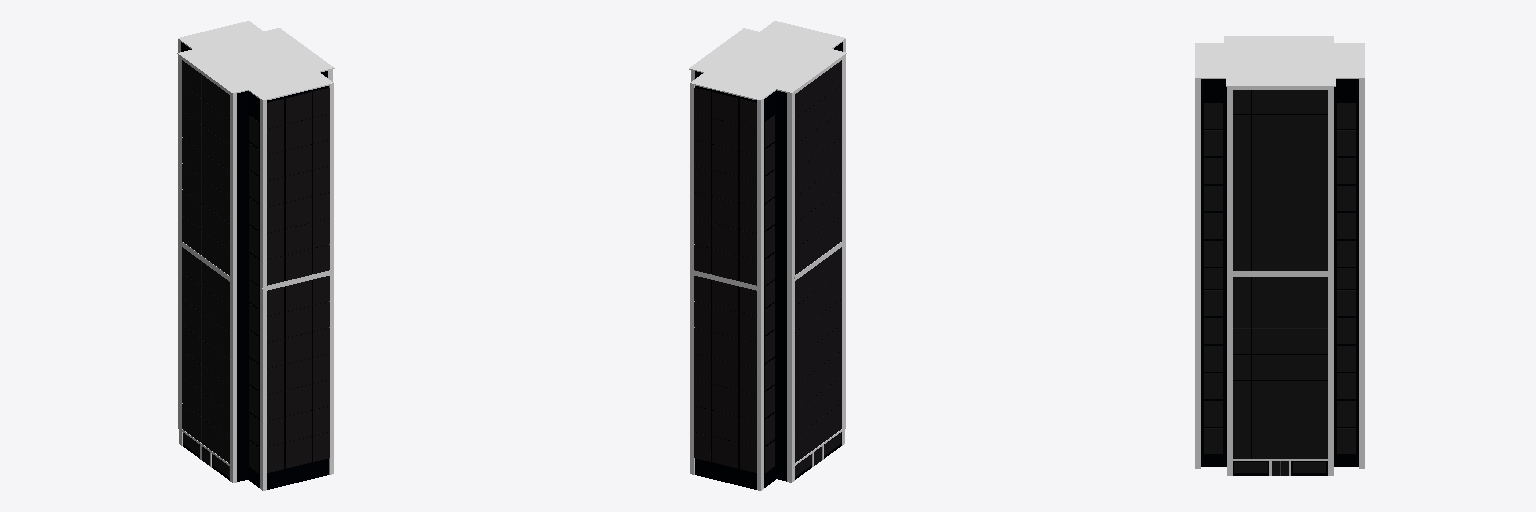
Rendered from Building2.obj.
3 renders of one model, left to right at view 1: azimuth 30°, elevation 25°; view 2: azimuth 150°, elevation 25°; view 3: azimuth 270°, elevation 25°, orthographic.
Visible parts, largest first — view 1: Part47, Part21, Part17, Part45, Union1, Union6, Union19, Union69, Union5, Union32, Union59, Union10 (+28 smaller); view 2: Part47, Part17, Part45, Part21, Part44, Part42, Union36, Union33, Union16, Union37, Union57, Union24 (+28 smaller); view 3: Part47, Part44, Part17, Union4, Union7, Union9, Union15, Union26, Union31, Union38, Union45, Union47 (+25 smaller).
Boxes of the visible parts, <box> form: Part47: <box>178,21,333,100</box>; Part21: <box>183,277,247,481</box>; Part17: <box>248,278,328,489</box>; Part45: <box>184,86,247,279</box>; Union1: <box>267,432,329,472</box>; Union6: <box>267,354,329,394</box>; Union19: <box>267,302,329,342</box>; Union69: <box>267,88,329,128</box>; Union5: <box>267,380,329,420</box>; Union32: <box>267,218,329,258</box>; Union59: <box>267,166,329,206</box>; Union10: <box>267,328,329,368</box>; Part47: <box>690,21,845,100</box>; Part17: <box>695,277,776,489</box>; Part45: <box>777,86,841,293</box>; Part21: <box>777,278,841,481</box>; Part44: <box>695,42,842,297</box>; Part42: <box>787,92,794,294</box>; Union36: <box>694,88,756,128</box>; Union33: <box>694,354,756,394</box>; Union16: <box>694,432,756,472</box>; Union37: <box>694,218,756,258</box>; Union57: <box>694,302,756,342</box>; Union24: <box>694,380,756,420</box>; Part47: <box>1195,43,1364,78</box>; Part44: <box>1201,79,1358,278</box>; Part17: <box>1201,279,1358,466</box>; Union4: <box>1233,433,1327,458</box>; Union7: <box>1233,407,1327,432</box>; Union9: <box>1233,381,1327,406</box>; Union15: <box>1233,328,1327,353</box>; Union26: <box>1233,302,1327,327</box>; Union31: <box>1233,245,1327,270</box>; Union38: <box>1233,167,1327,192</box>; Union45: <box>1233,141,1327,166</box>; Union47: <box>1233,115,1327,140</box>.
Size of the model in its own units: 73.16 by 266 by 105.